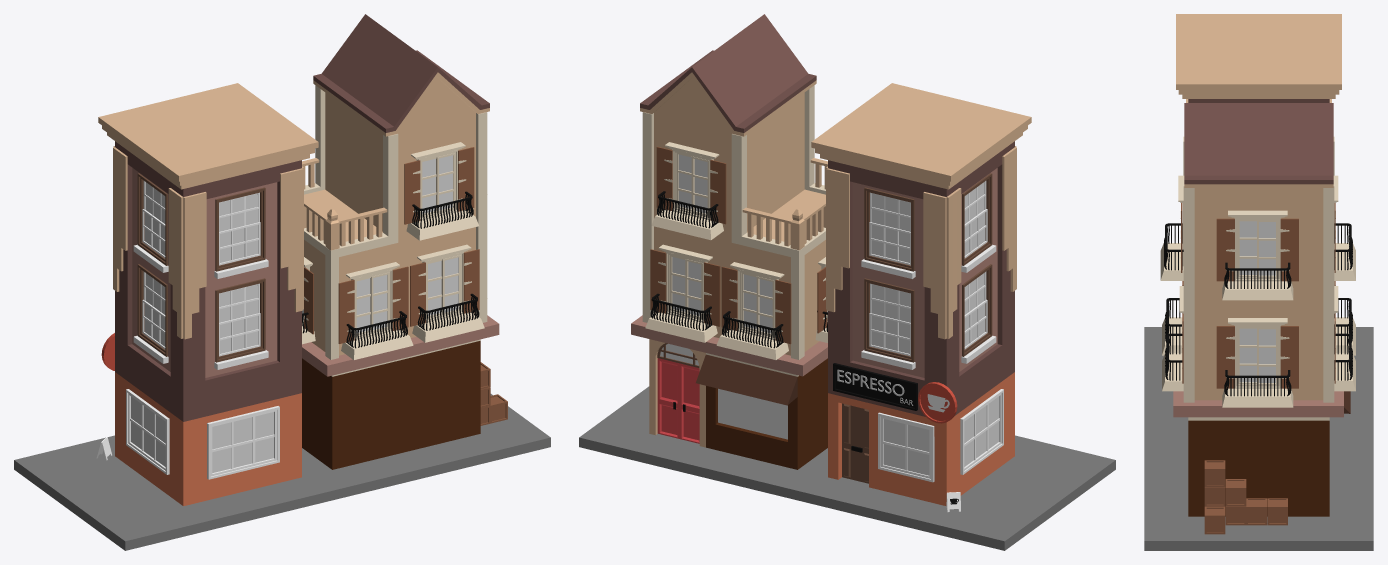
The model's file is HouseC.fbx.
3 renders of one model, left to right at view 1: azimuth 30°, elevation 25°; view 2: azimuth 150°, elevation 25°; view 3: azimuth 270°, elevation 25°, orthographic. The views are drawn at different scales.
Visible parts, largest first — view 1: Cube.091, Cube.101, Cube.054, Cube.097, Cube.107, Cube.118, Cube.081, Cube.117, Cube.110, Cube.116, Cube.086, Cube.085 (+1 smaller); view 2: Cube.091, Cube.101, Cube.054, Cube.097, Cube.107, Cube.118, Cube.081, Cube.112, Cube.106, Cube.109, Cube.100, Cube.092 (+7 smaller); view 3: Cube.054, Cube.101, Cube.097, Cube.107, Cube.118, Cube.108, Cube.102, Cube.117, Cube.106, Cube.116, Cube.112, Cube.109 (+9 smaller).
Boxes of the visible parts, x1,y1,x2,y2 form: Cube.091: (113, 141, 303, 421); Cube.101: (302, 78, 487, 359); Cube.054: (14, 394, 550, 550); Cube.097: (302, 315, 499, 469); Cube.107: (98, 83, 318, 189); Cube.118: (313, 14, 489, 136); Cube.081: (115, 372, 301, 506); Cube.117: (404, 142, 478, 240); Cube.110: (338, 262, 413, 359); Cube.116: (410, 244, 484, 342); Cube.086: (131, 396, 273, 472); Cube.085: (126, 389, 279, 479); Cube.091: (826, 141, 1016, 416); Cube.101: (642, 78, 827, 359); Cube.054: (579, 386, 1115, 550); Cube.097: (631, 315, 827, 469); Cube.107: (811, 83, 1031, 189); Cube.118: (640, 14, 816, 136); Cube.081: (828, 372, 1014, 505); Cube.112: (651, 142, 726, 240); Cube.106: (645, 244, 720, 342); Cube.109: (716, 262, 791, 359); Cube.100: (657, 358, 699, 443); Cube.092: (833, 363, 917, 410); Cube.054: (1144, 327, 1373, 550); Cube.101: (1183, 136, 1334, 402); Cube.097: (1173, 391, 1350, 516); Cube.107: (1176, 14, 1341, 98); Cube.118: (1184, 103, 1333, 187); Cube.108: (1216, 210, 1298, 300); Cube.102: (1216, 318, 1298, 407); Cube.117: (1160, 175, 1184, 280); Cube.106: (1334, 286, 1355, 391); Cube.116: (1162, 286, 1183, 391); Cube.112: (1333, 175, 1355, 280); Cube.109: (1334, 281, 1355, 355).
Bounding box in the file's own units: 1.77 × 1.55 × 0.801.
